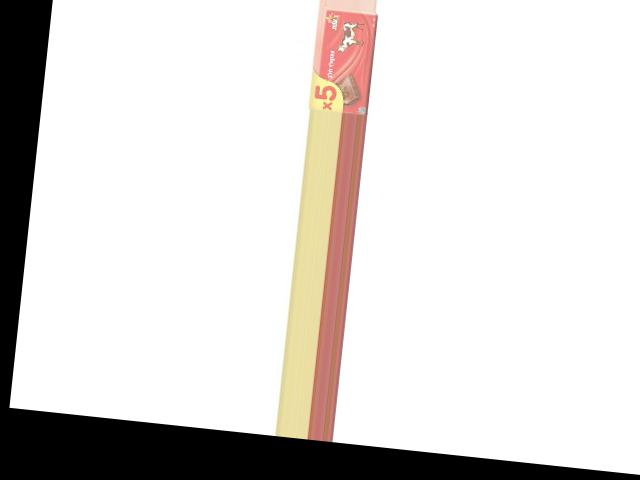chocolate: (306, 4, 377, 115)
